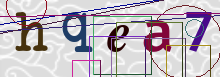7: (180, 8, 215, 55)
a: (139, 16, 176, 57)
e: (102, 19, 133, 57)
h: (12, 7, 51, 56)
q: (58, 8, 97, 56)
